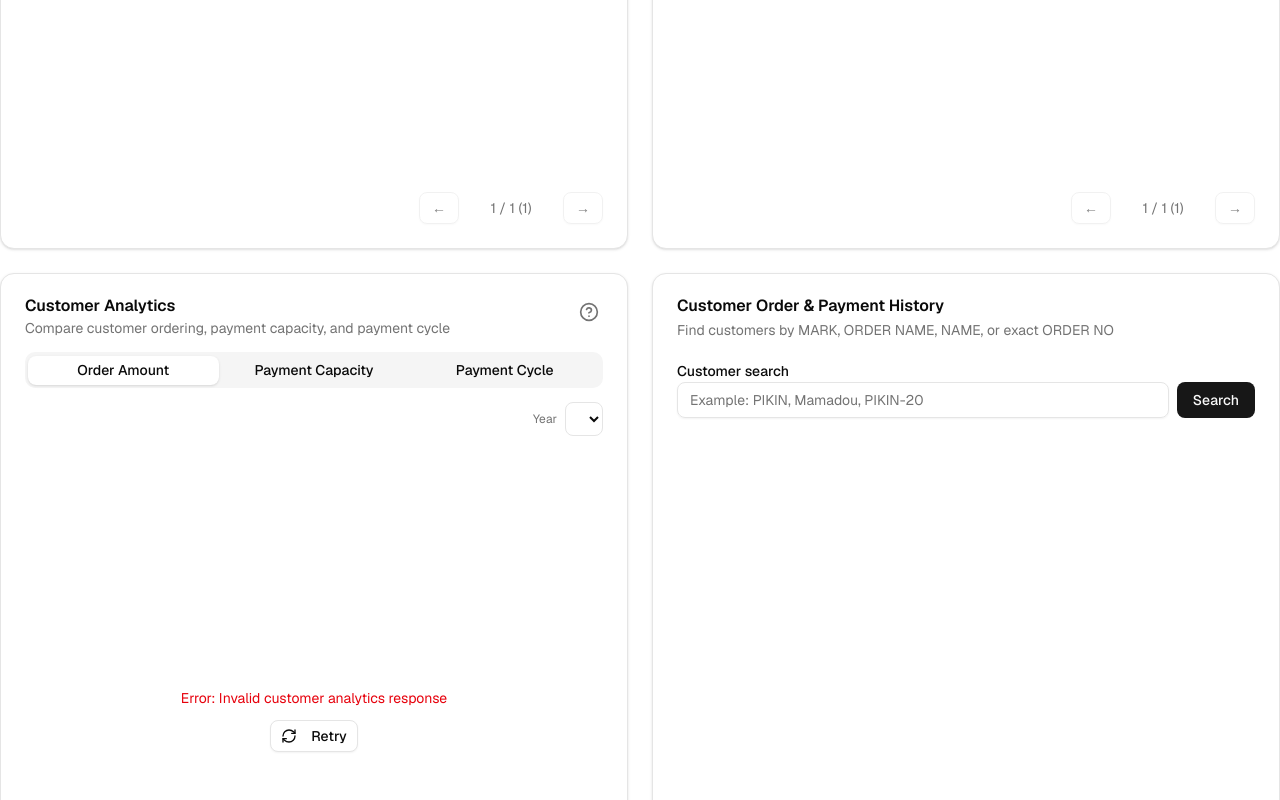
Test: Dashboard customer outstanding status dialog › supports Enter search and shows an empty customer result without pagination
The width and height of the screenshot is (1280, 800).
(page scrolled)
Type "UNKNOWN-01" into the field labelled "Customer search" at [923, 400], box x1=677 y1=382 x2=1169 y2=418
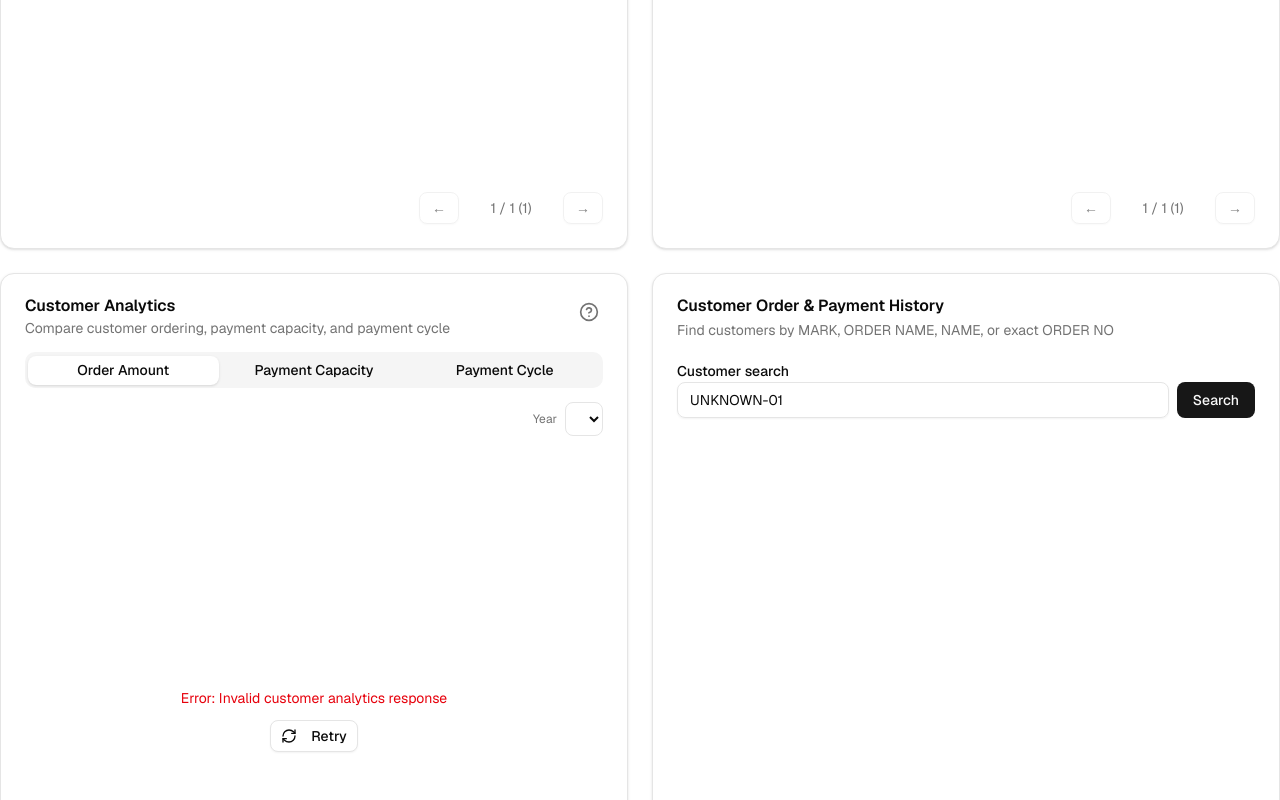
Press Enter in the field labelled "Customer search", box x1=677 y1=382 x2=1169 y2=418
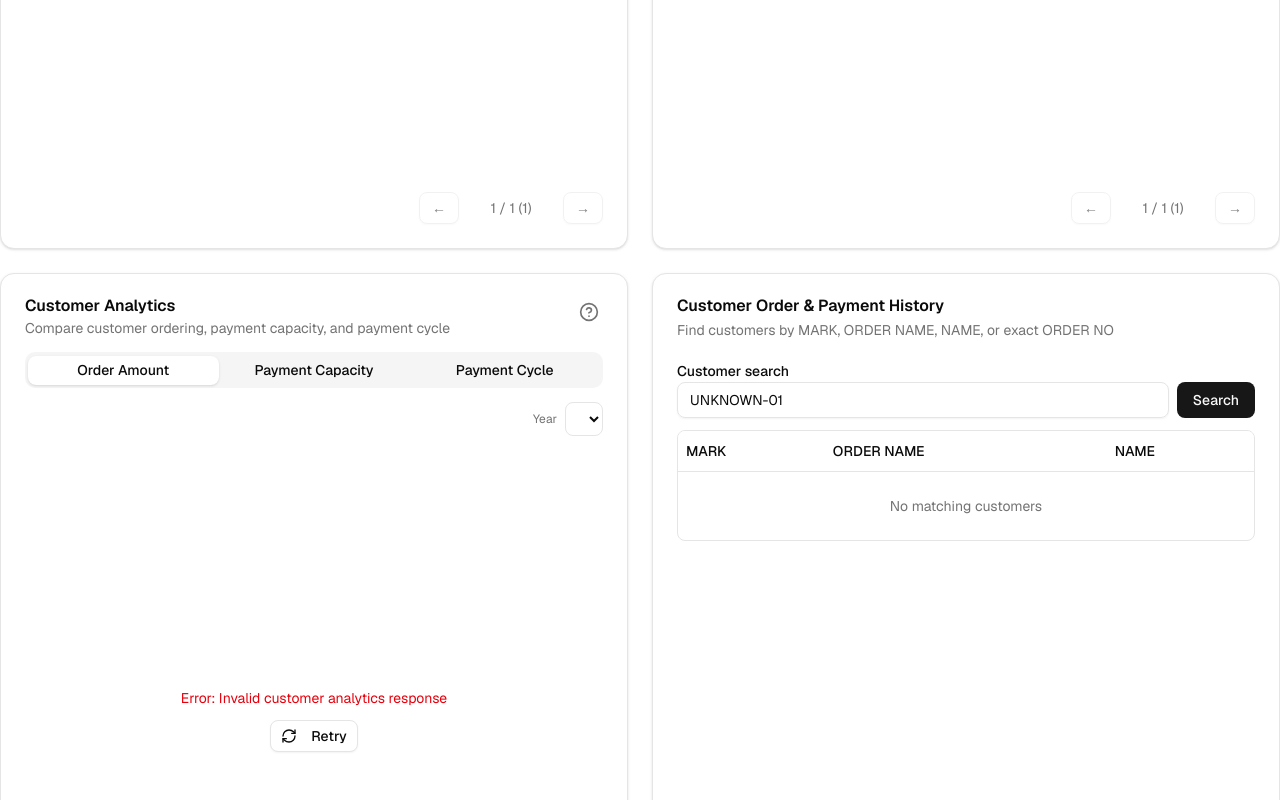
Now the text "No matching customers" is shown, box x1=678 y1=471 x2=1254 y2=540
